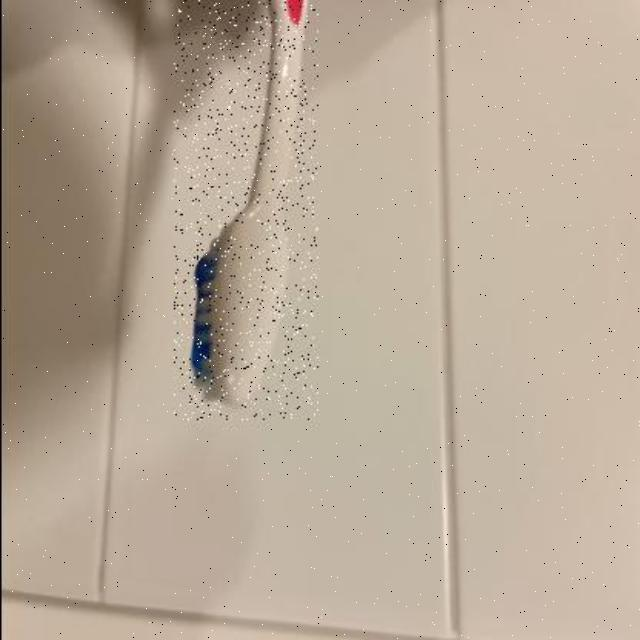toothbrush: (173, 0, 317, 420)
